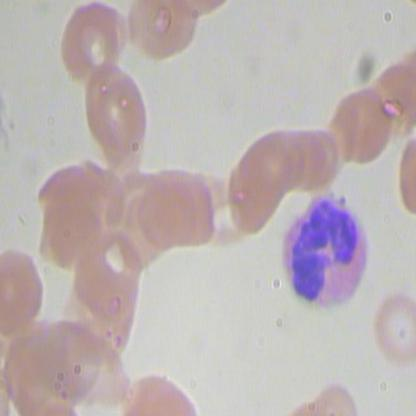RBC: (75, 57, 157, 169), (56, 1, 135, 88), (140, 173, 205, 257), (157, 168, 222, 251), (330, 81, 394, 165), (120, 1, 202, 66), (188, 169, 252, 252), (1, 247, 52, 335), (368, 292, 415, 366)
WBC: (274, 189, 383, 322)
